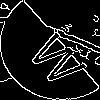W: (25, 25, 97, 90)
